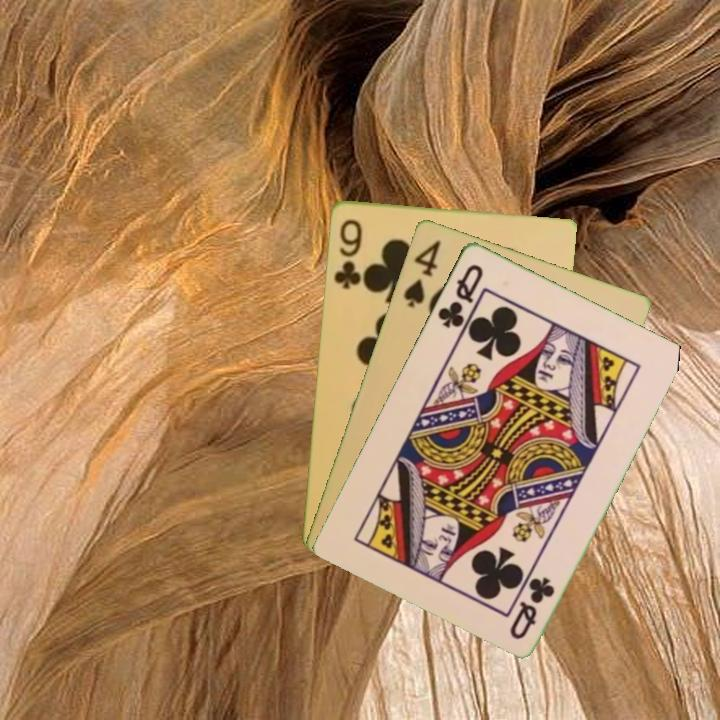4s: (399, 236, 443, 310)
9c: (330, 215, 365, 292)
Qc: (433, 259, 486, 331), (505, 572, 558, 643)
